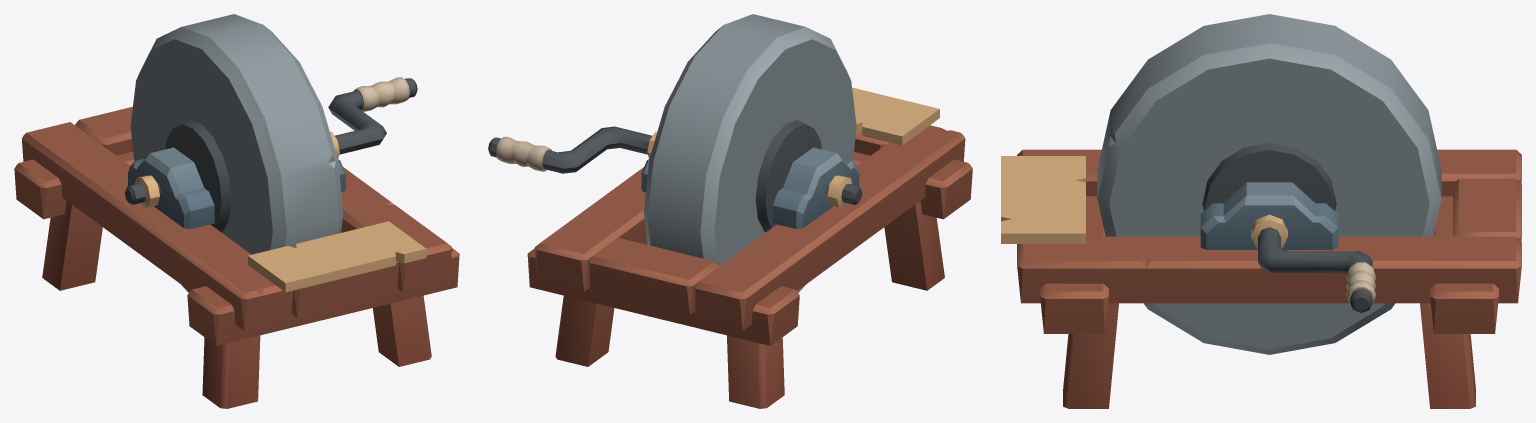
File: grindstone.glb
3 renders of one model, left to right at view 1: azimuth 30°, elevation 25°; view 2: azimuth 150°, elevation 25°; view 3: azimuth 270°, elevation 25°, orthographic. The views are drawn at different scales.
Visible parts, largest first — view 1: grindstone, grindstone_wheel; view 2: grindstone, grindstone_wheel; view 3: grindstone_wheel, grindstone.
Boxes of the visible parts, box(x1,y1,x2,y2) form: grindstone: box(14, 106, 459, 408); grindstone_wheel: box(125, 14, 417, 292); grindstone: box(527, 87, 972, 408); grindstone_wheel: box(488, 14, 862, 292); grindstone_wheel: box(1097, 14, 1441, 354); grindstone: box(1001, 149, 1521, 408).
Bounding box in the file's own units: 1.16 × 0.93 × 1.36.
1 material, 1 textured.
